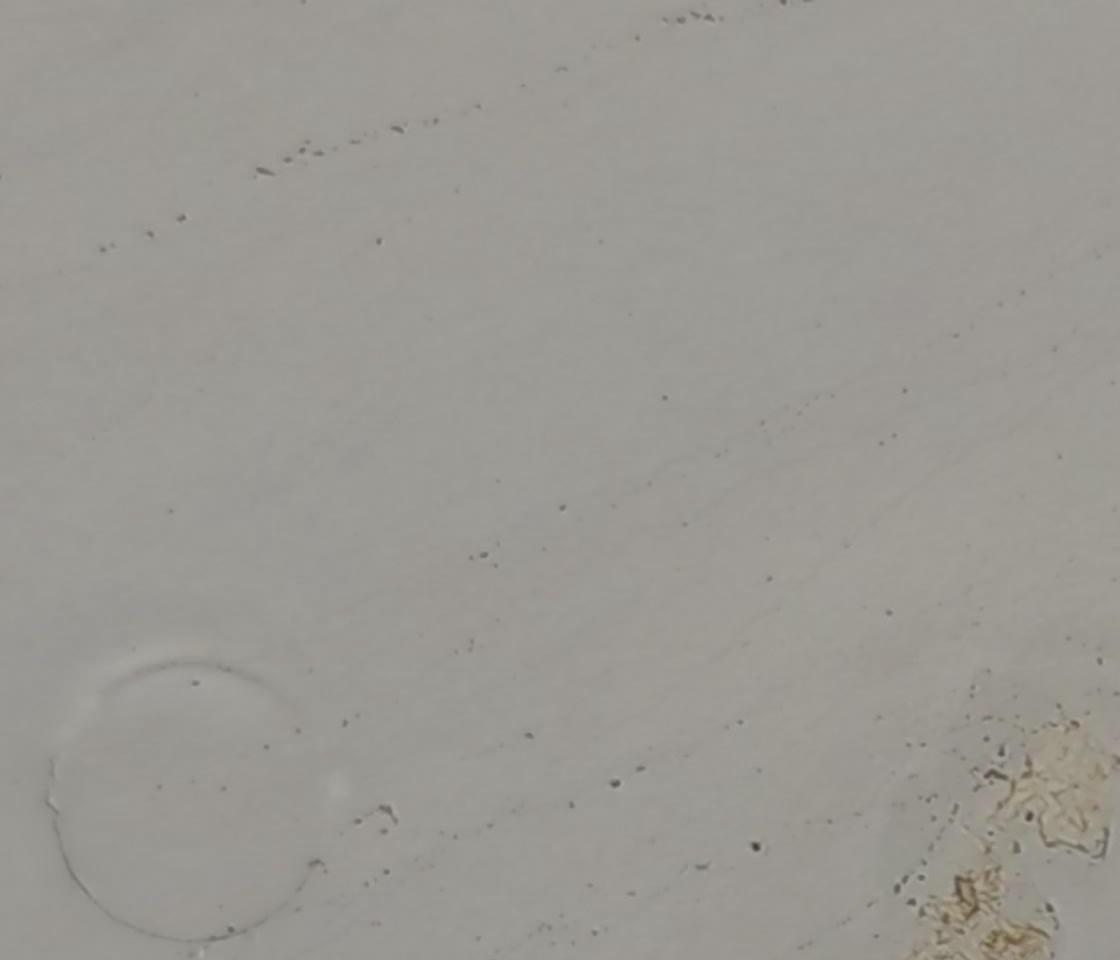scratch: (372, 799, 413, 840), (243, 159, 279, 182)
